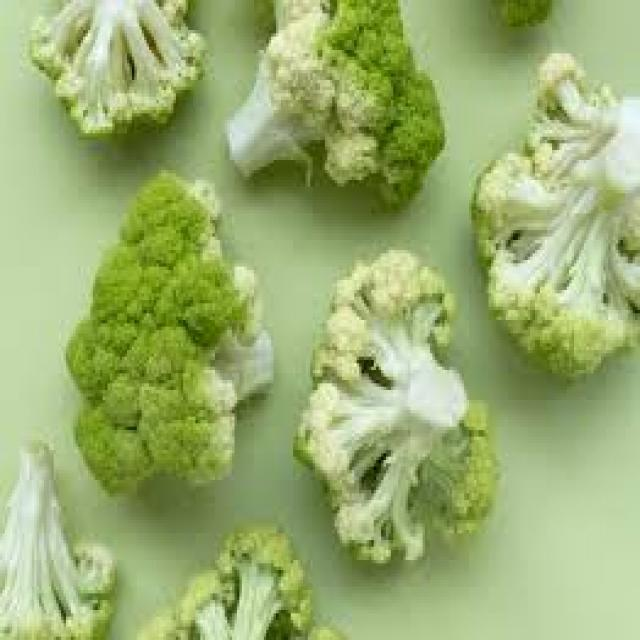organic waste: (61, 164, 271, 494), (291, 244, 493, 564), (469, 50, 638, 377), (217, 0, 440, 207), (132, 516, 344, 636), (24, 0, 202, 133), (0, 440, 115, 637), (489, 0, 552, 27)
